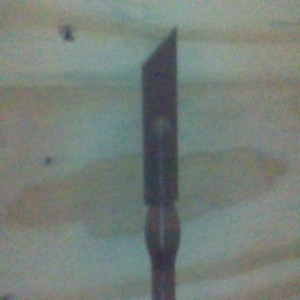cutter: (139, 23, 183, 300)
